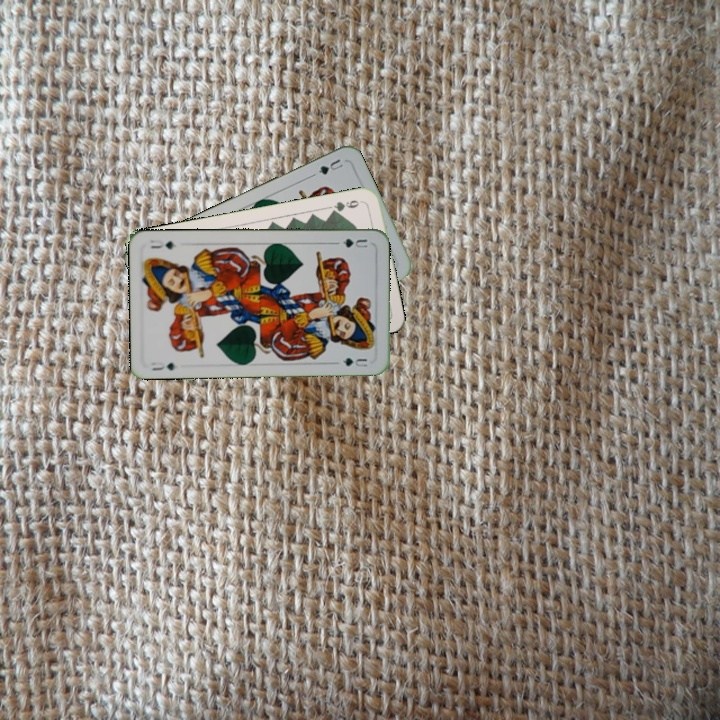G9: (327, 196, 366, 216)
GU: (308, 155, 347, 179), (332, 235, 370, 250), (147, 358, 178, 373)
